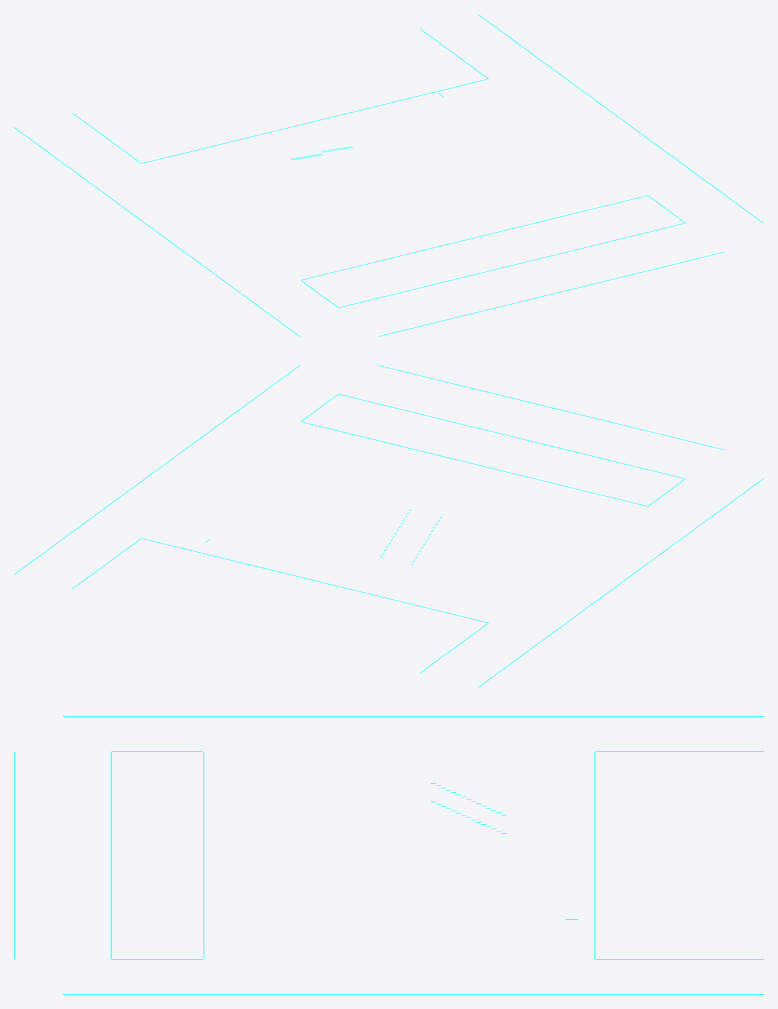
The model's file is v02-01-05-cyan.glb.
The picture shows the model from 3 angles, top to bottom: view 1: azimuth 30°, elevation 25°; view 2: azimuth 150°, elevation 25°; view 3: azimuth 270°, elevation 25°; orthographic projection. The views are drawn at different scales.
Visible parts, largest first — view 1: v02-01-05-cyan; view 2: v02-01-05-cyan; view 3: v02-01-05-cyan.
Boxes of the visible parts, left/top/right/bottom form: v02-01-05-cyan: left=14, top=14, right=763, bottom=336; v02-01-05-cyan: left=14, top=365, right=763, bottom=687; v02-01-05-cyan: left=14, top=716, right=763, bottom=994.
Size of the model in its own units: 46.98 by 2.87 by 53.49.
